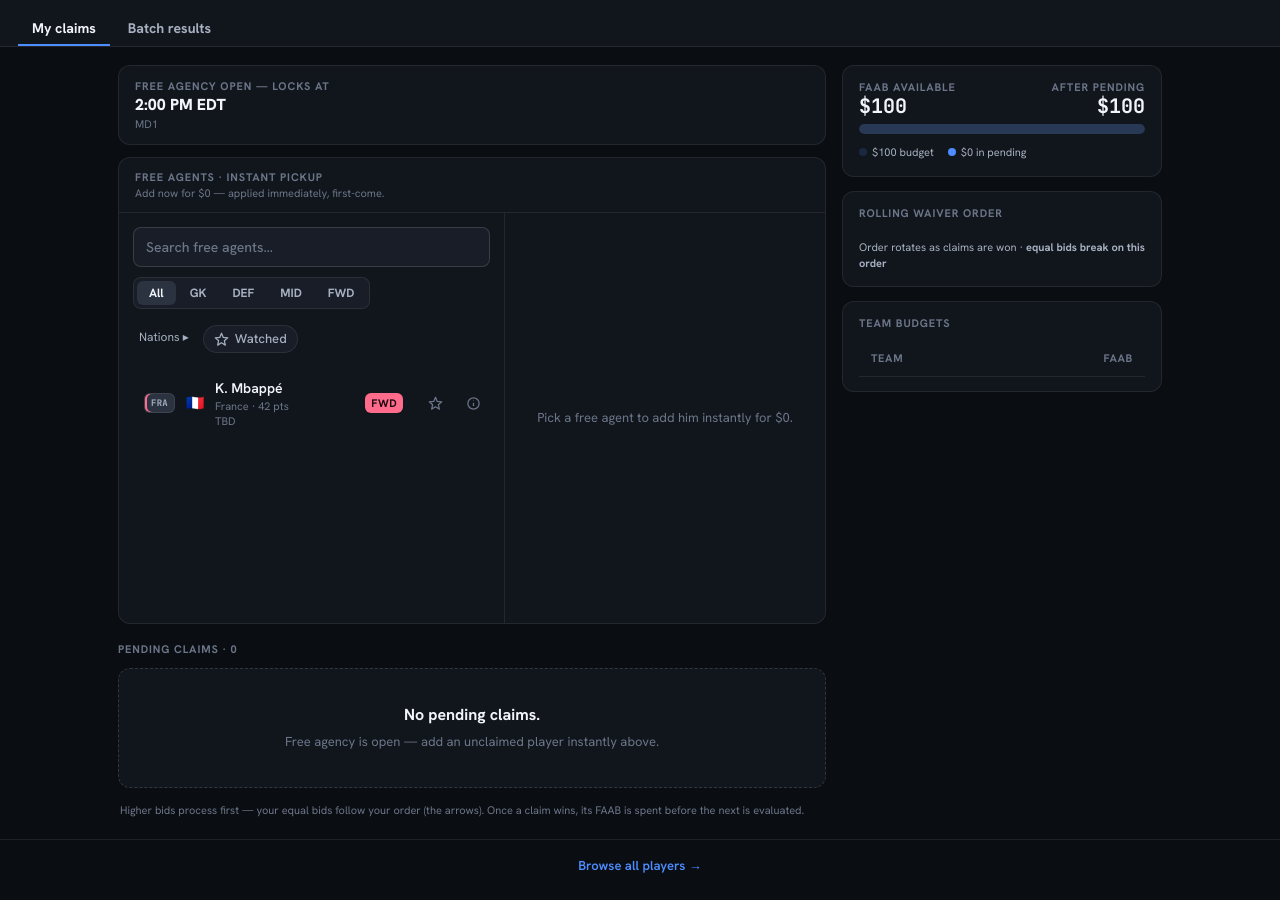
Test: Free Agents / Waivers player card (open-vs-add resolution) › the info control opens the view-only card and does NOT select the player for acquisition
Expected: the text "Pick a free agent to add him instantly for $0." is shown, left=537, top=409, right=793, bottom=426
Note: Open the card via the dedicated trailing control.
Click the button named "view player card" at (473, 403), box left=456, top=369, right=490, bottom=437
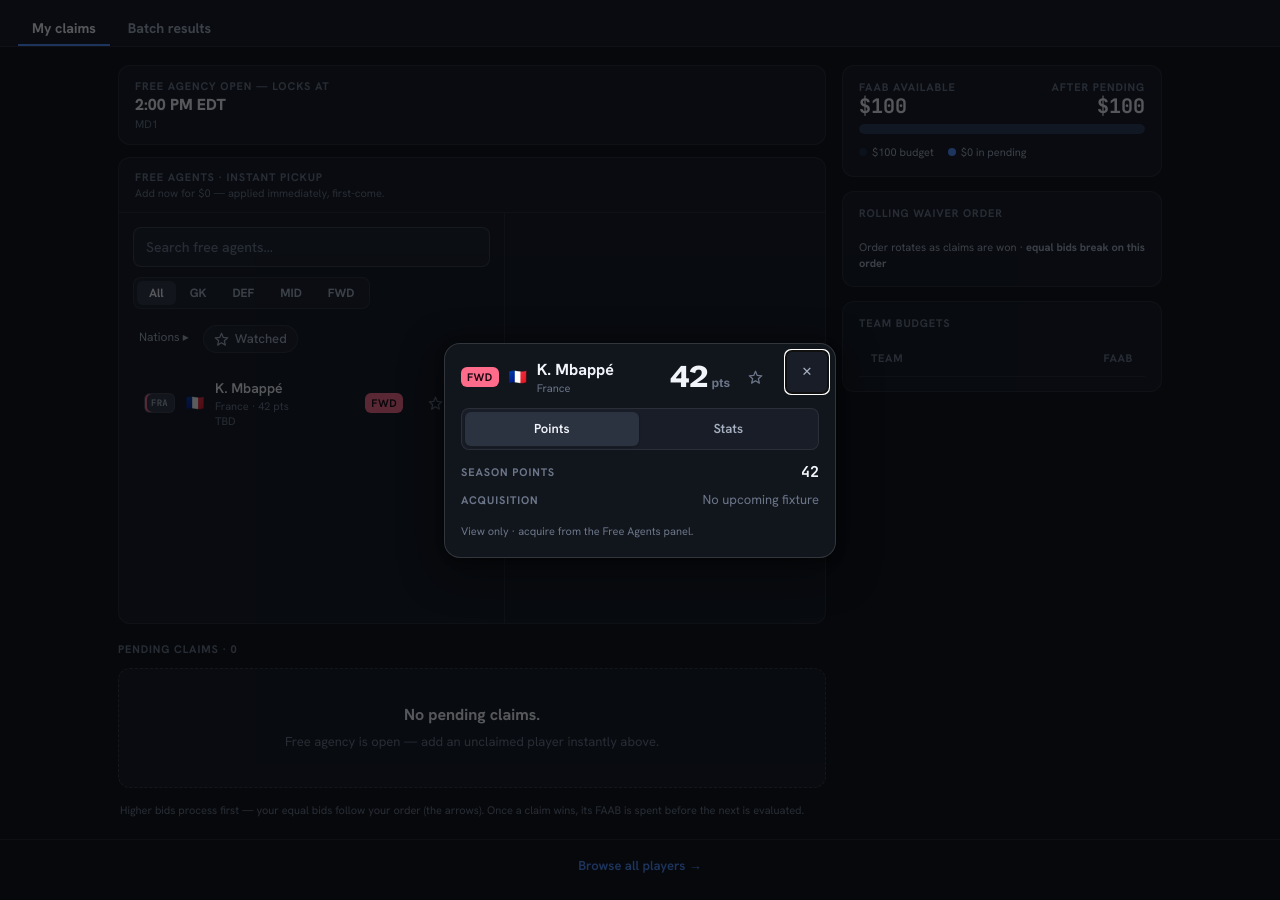
Result: the dialog named "player card" is shown
Result: the text "Season points" is shown at left=461, top=464, right=555, bottom=478
Result: the tab "Stats" is shown at left=642, top=412, right=815, bottom=446
